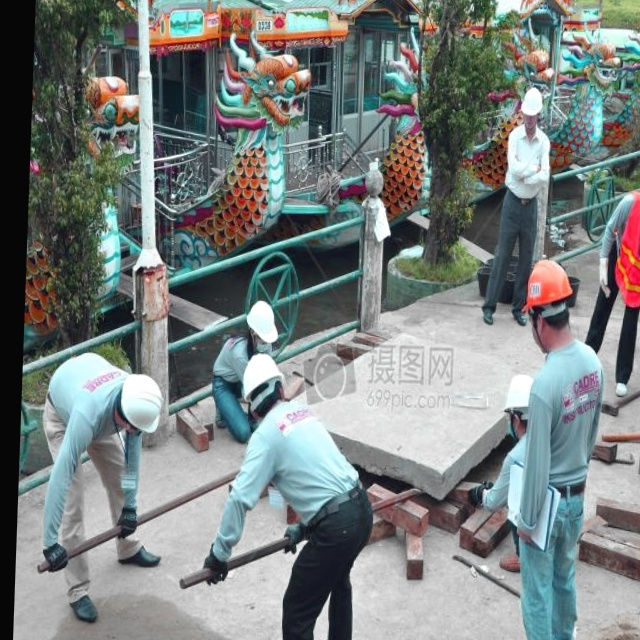Con_Casco: (521, 255, 577, 345), (518, 86, 545, 136)
